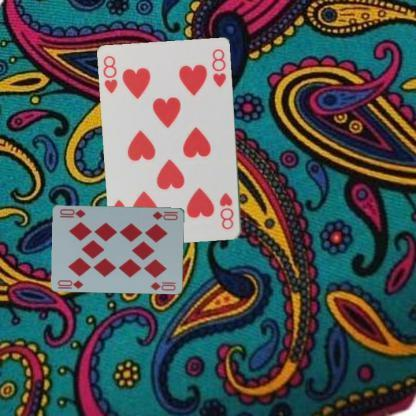10d: (150, 208, 179, 222), (55, 278, 85, 289)
8h: (100, 54, 119, 94), (218, 190, 236, 231)
